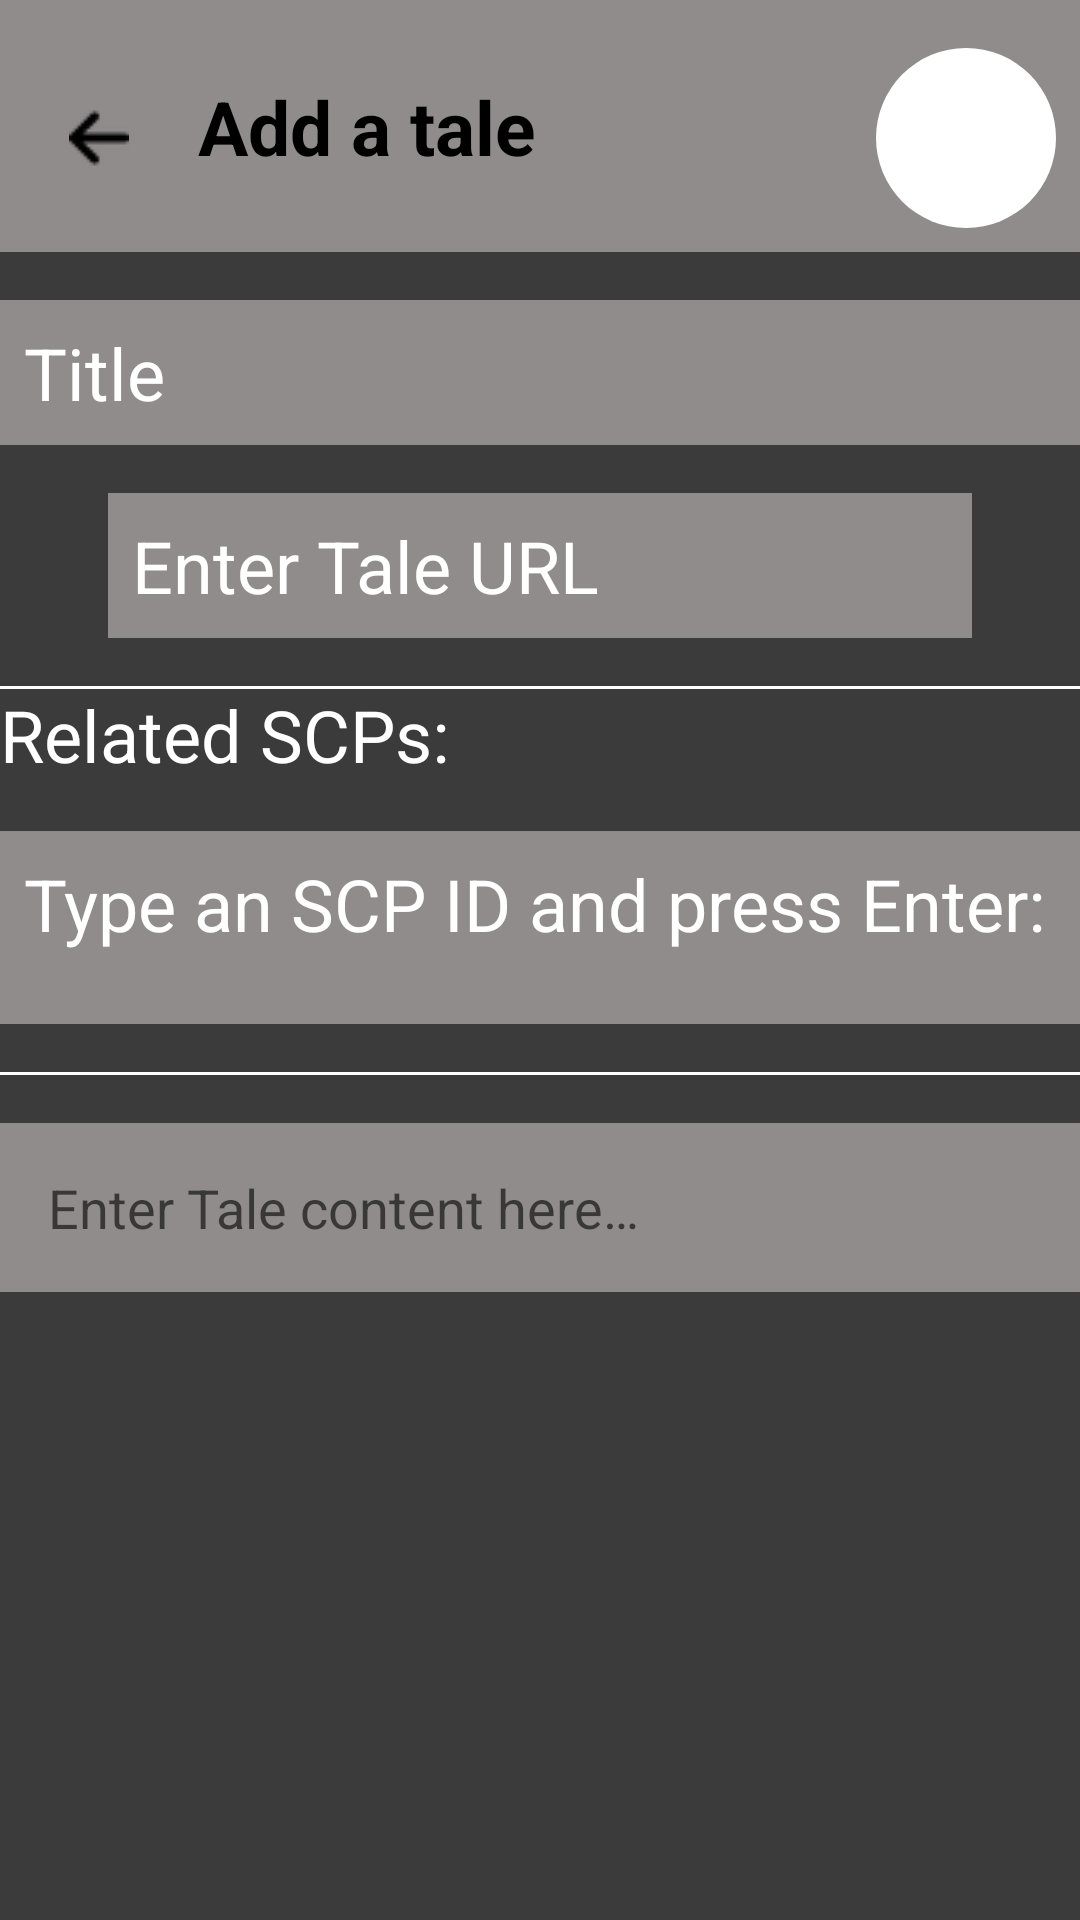

Where to tap for icons on this 1080 × 1920 app screen, as (x,y):
Back: (99,138)
